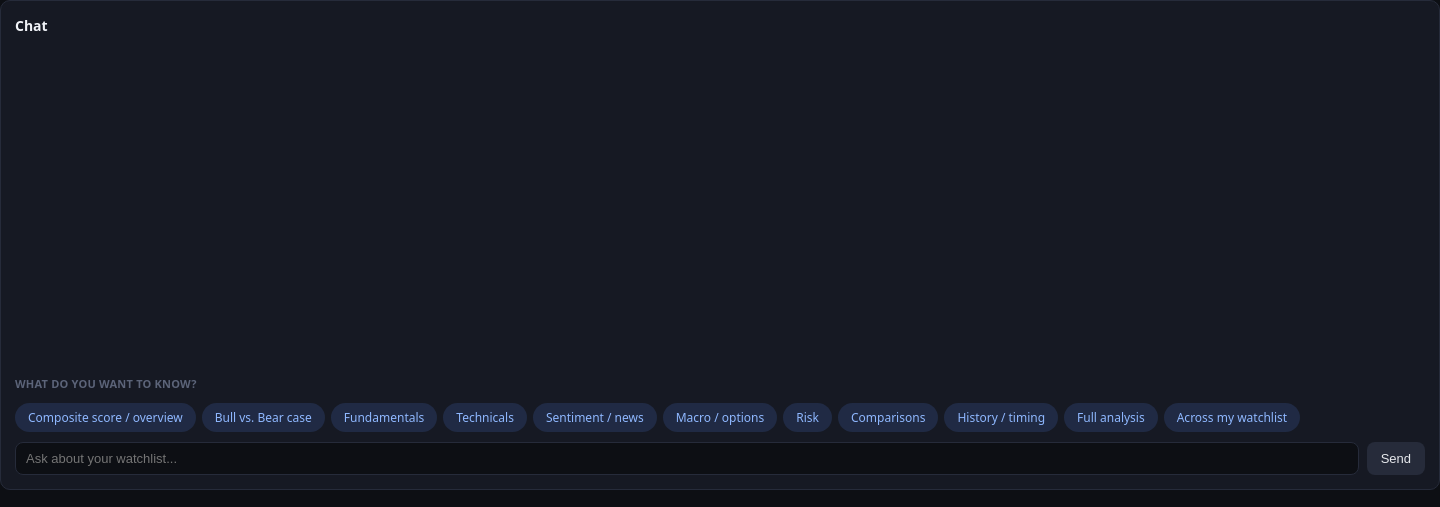
ChatPanel › shows an error message when sending fails, without losing the user's question
Type "How does AAPL look?" into the field with placeholder "Ask about your watchlist...". click: (687, 458)
box: [15, 442, 1359, 475]
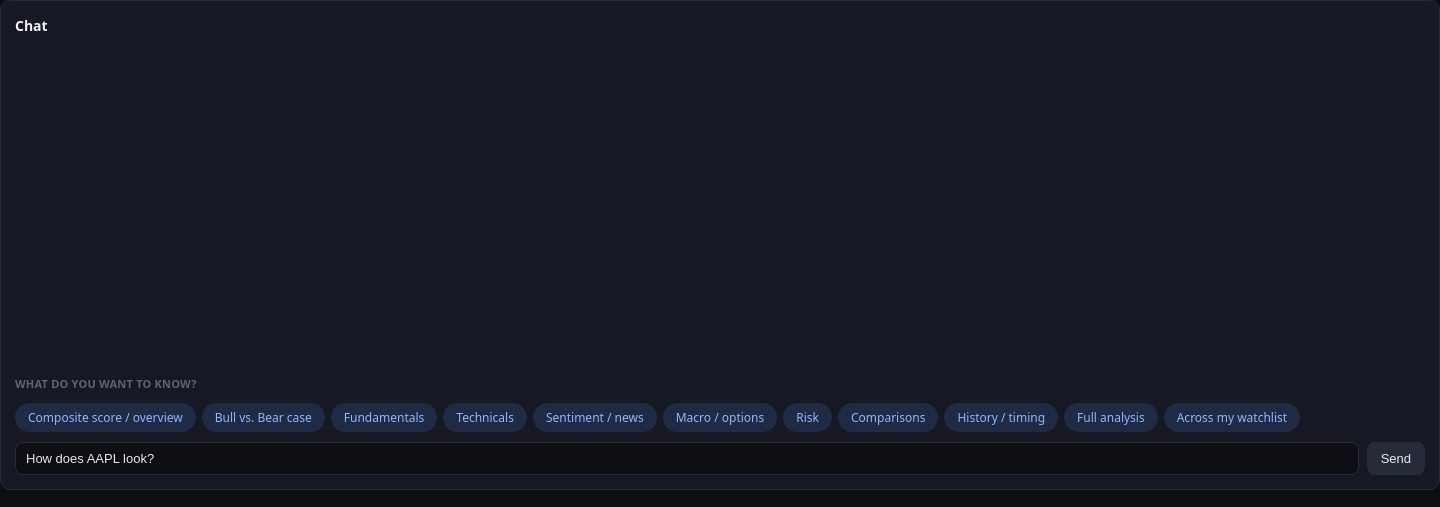
Click the button "Send". click: (1396, 458)
box: [1367, 442, 1425, 475]
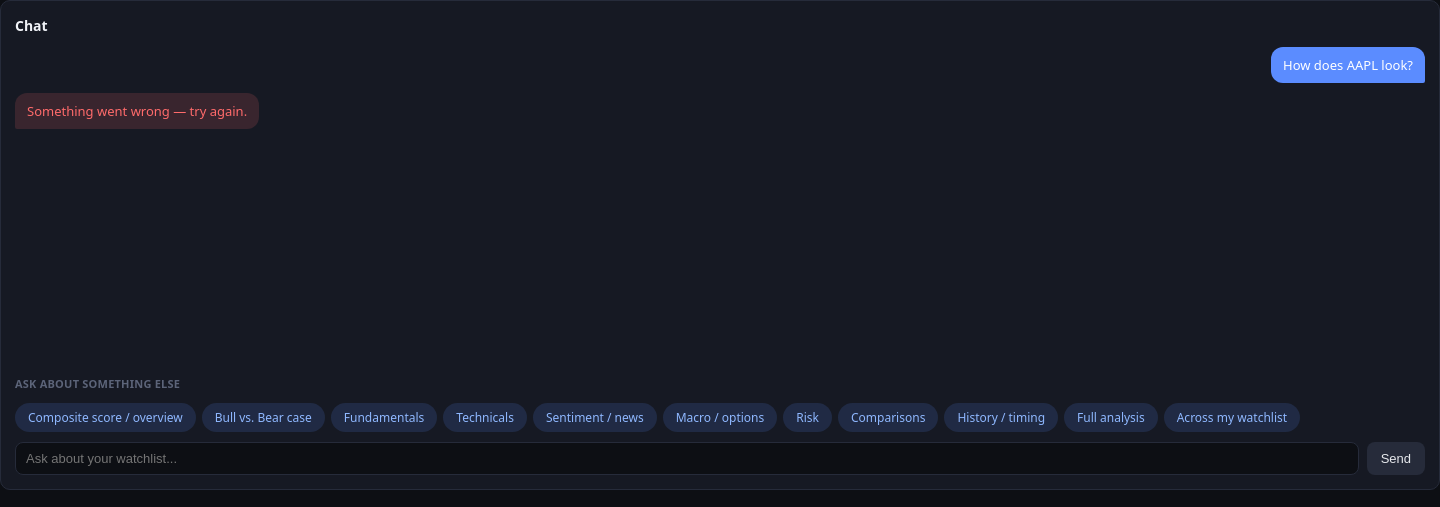
Now the text "Something went wrong — try again." is shown, box [15, 93, 259, 129]
Now the text "How does AAPL look?" is shown, box [1271, 47, 1425, 83]
